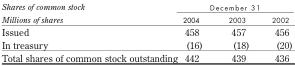table: (0, 1, 292, 62)
table column: (0, 1, 179, 62), (214, 1, 259, 62), (179, 1, 214, 62), (259, 1, 292, 62)
table column header: (0, 1, 292, 24)
table row: (0, 24, 292, 37), (0, 37, 292, 50), (0, 1, 292, 13), (0, 50, 292, 62), (0, 13, 292, 24)
table spanning cell: (0, 1, 179, 24), (179, 1, 292, 13)
